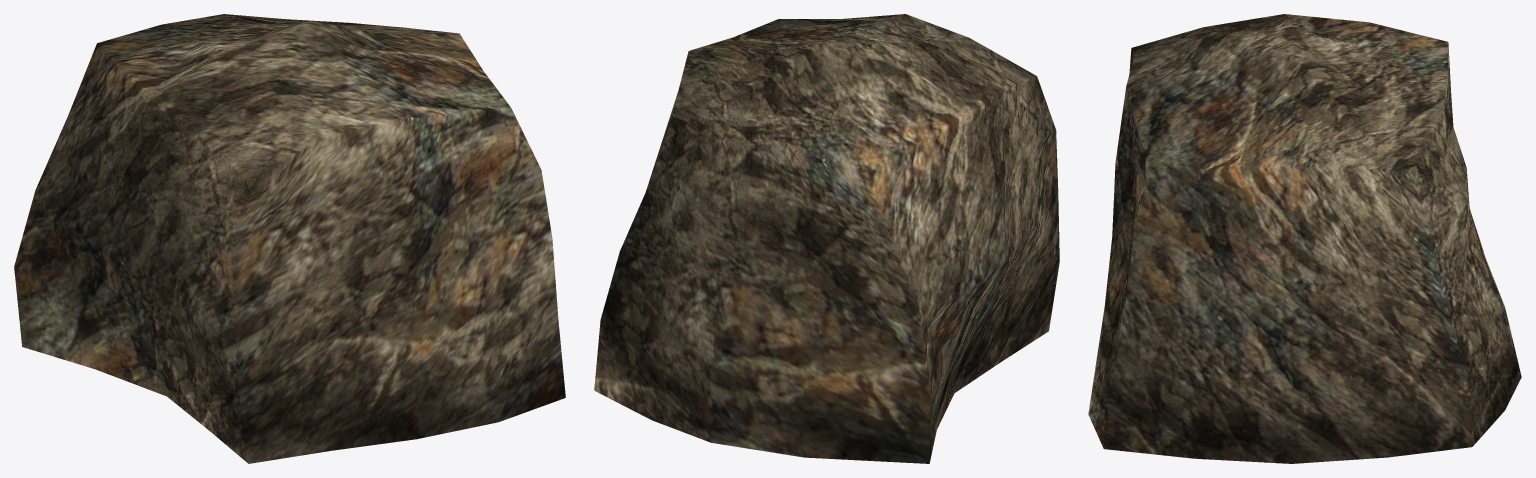
File: rock.glb
The picture shows the model from 3 angles, left to right: view 1: azimuth 30°, elevation 25°; view 2: azimuth 150°, elevation 25°; view 3: azimuth 270°, elevation 25°; orthographic projection. The views are drawn at different scales.
Visible parts, largest first — view 1: rock; view 2: rock; view 3: rock.
Boxes of the visible parts, bbox=[...] form: rock: bbox=[14, 14, 565, 463]; rock: bbox=[594, 14, 1059, 463]; rock: bbox=[1088, 14, 1521, 463].
Bounding box in the file's own units: 2.78 × 2.3 × 2.8.
1 material, 1 textured.
